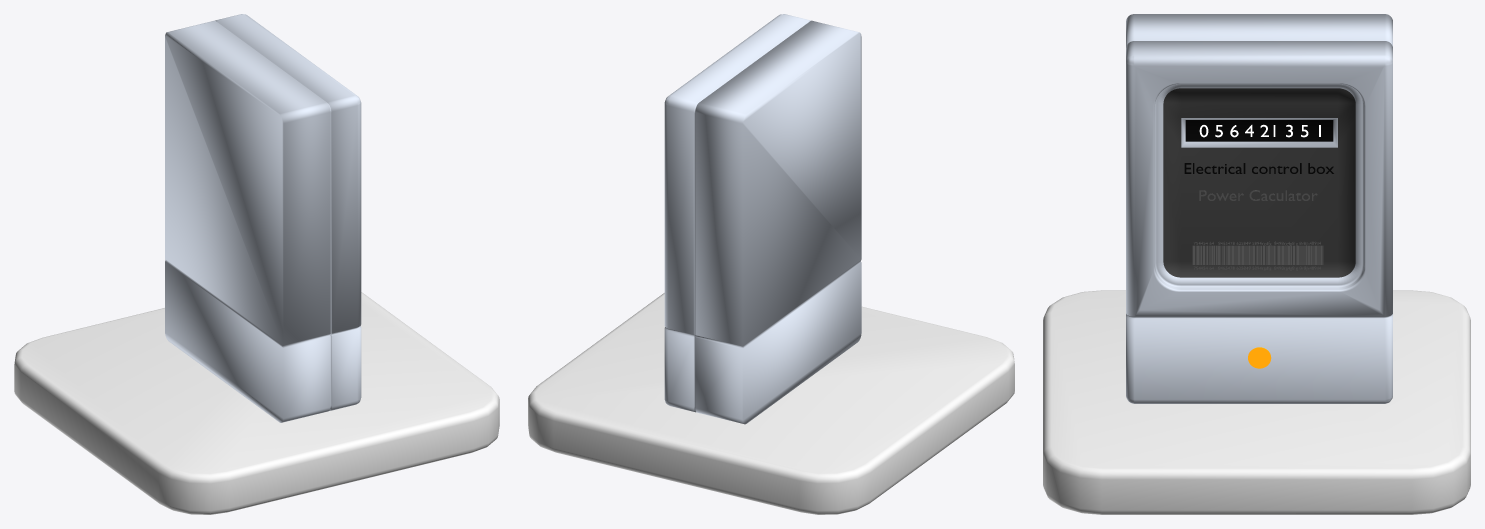
Rendered from index.gltf.
3 views of the same model, side by side, from view 1: azimuth 30°, elevation 25°; view 2: azimuth 150°, elevation 25°; view 3: azimuth 270°, elevation 25° (orthographic). The views are drawn at different scales.
Visible parts, largest first — view 1: 计能电表, dizuo; view 2: 计能电表, dizuo; view 3: 计能电表, dizuo.
Boxes of the visible parts, x1,y1,x2,y2 form: 计能电表: (165,14,361,422); dizuo: (14,292,499,514); 计能电表: (664,14,861,424); dizuo: (528,293,1014,514); 计能电表: (1126,14,1392,403); dizuo: (1043,290,1470,514).
Size of the model in its own units: 2.3 by 2.29 by 2.26.
